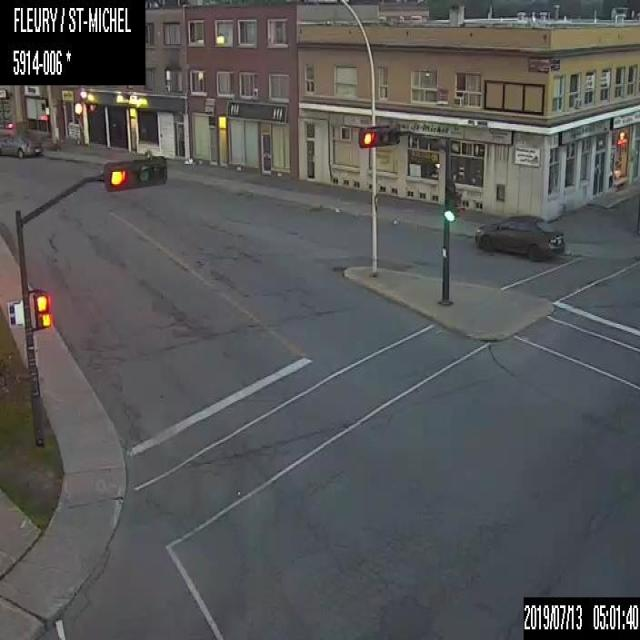vehicle: (472, 213, 564, 260), (0, 130, 42, 158)
